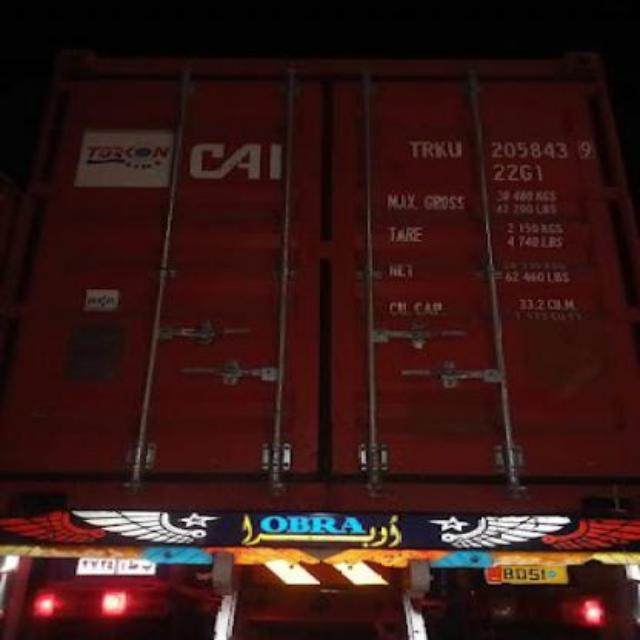0: (504, 141, 516, 157)
2: (488, 141, 504, 159)
3: (556, 141, 570, 159)
4: (542, 141, 556, 159)
5: (516, 141, 530, 159)
8: (530, 141, 544, 159)
9: (578, 141, 594, 157)
K: (434, 138, 448, 158)
R: (422, 139, 436, 159)
T: (406, 140, 424, 160)
U: (448, 139, 464, 159)
